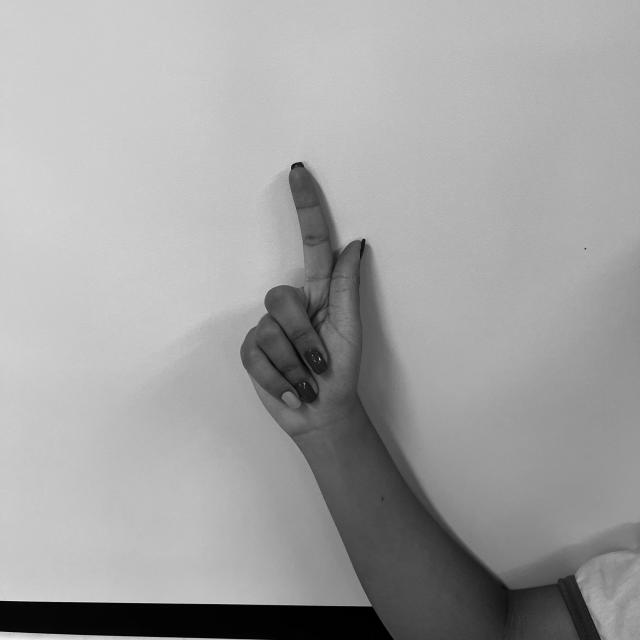Letra G: (233, 152, 379, 438)
